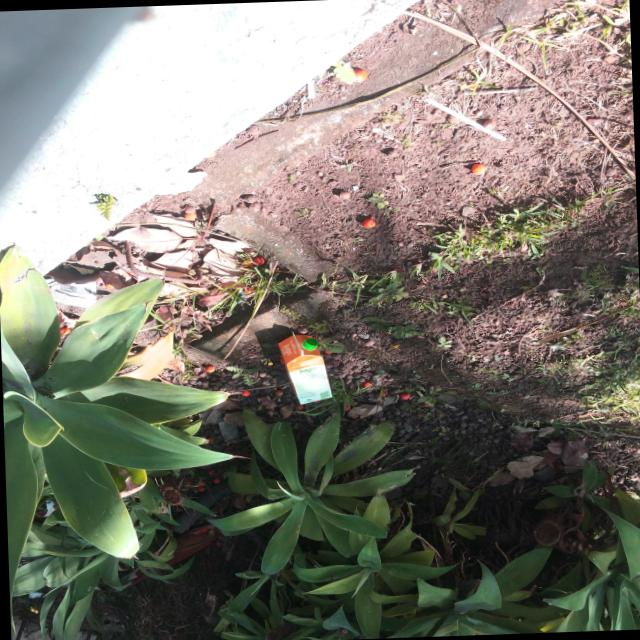less trash: (277, 334, 331, 403)
